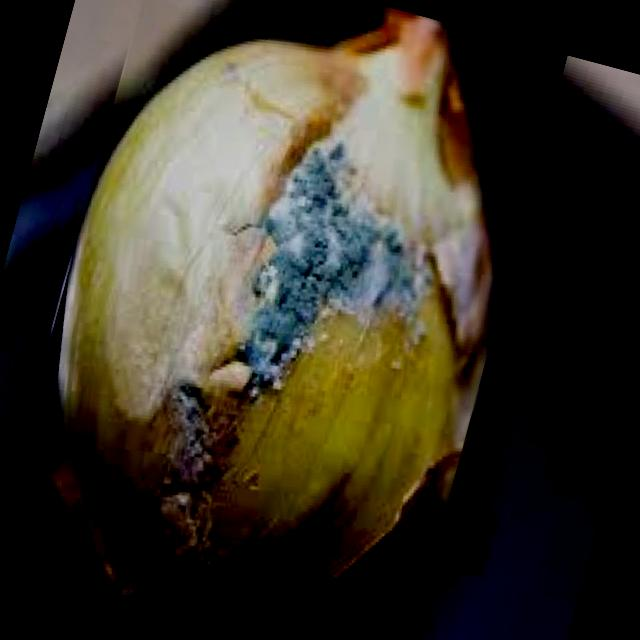rotten: (55, 7, 491, 630)
